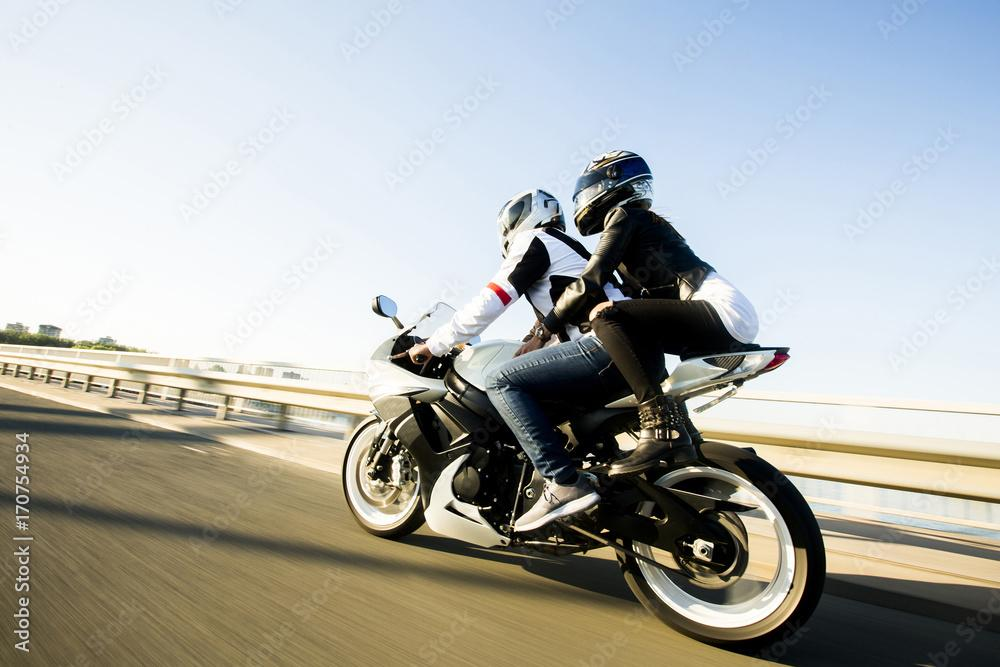helmet: (571, 149, 654, 238), (495, 187, 567, 264)
